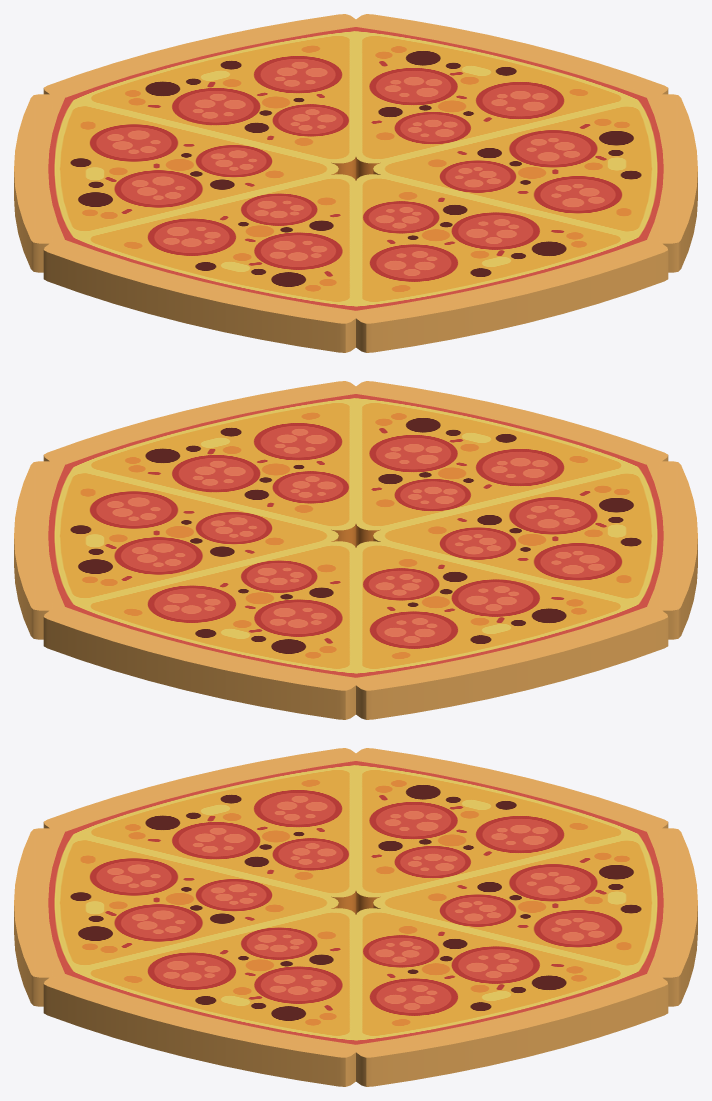
File: Pizza only.fbx
3 renders of one model, top to bottom at view 1: azimuth 30°, elevation 25°; view 2: azimuth 150°, elevation 25°; view 3: azimuth 270°, elevation 25°, orthographic.
Visible parts, largest first — view 1: Supreme_Pizza; view 2: Supreme_Pizza; view 3: Supreme_Pizza.
Part boxes in pixels (x1=…): Supreme_Pizza: x1=14, y1=14, x2=697, y2=352; Supreme_Pizza: x1=14, y1=381, x2=697, y2=719; Supreme_Pizza: x1=14, y1=748, x2=697, y2=1086.
Size of the model in its own units: 39.98 by 1.88 by 42.84.
1 material, 1 textured.
